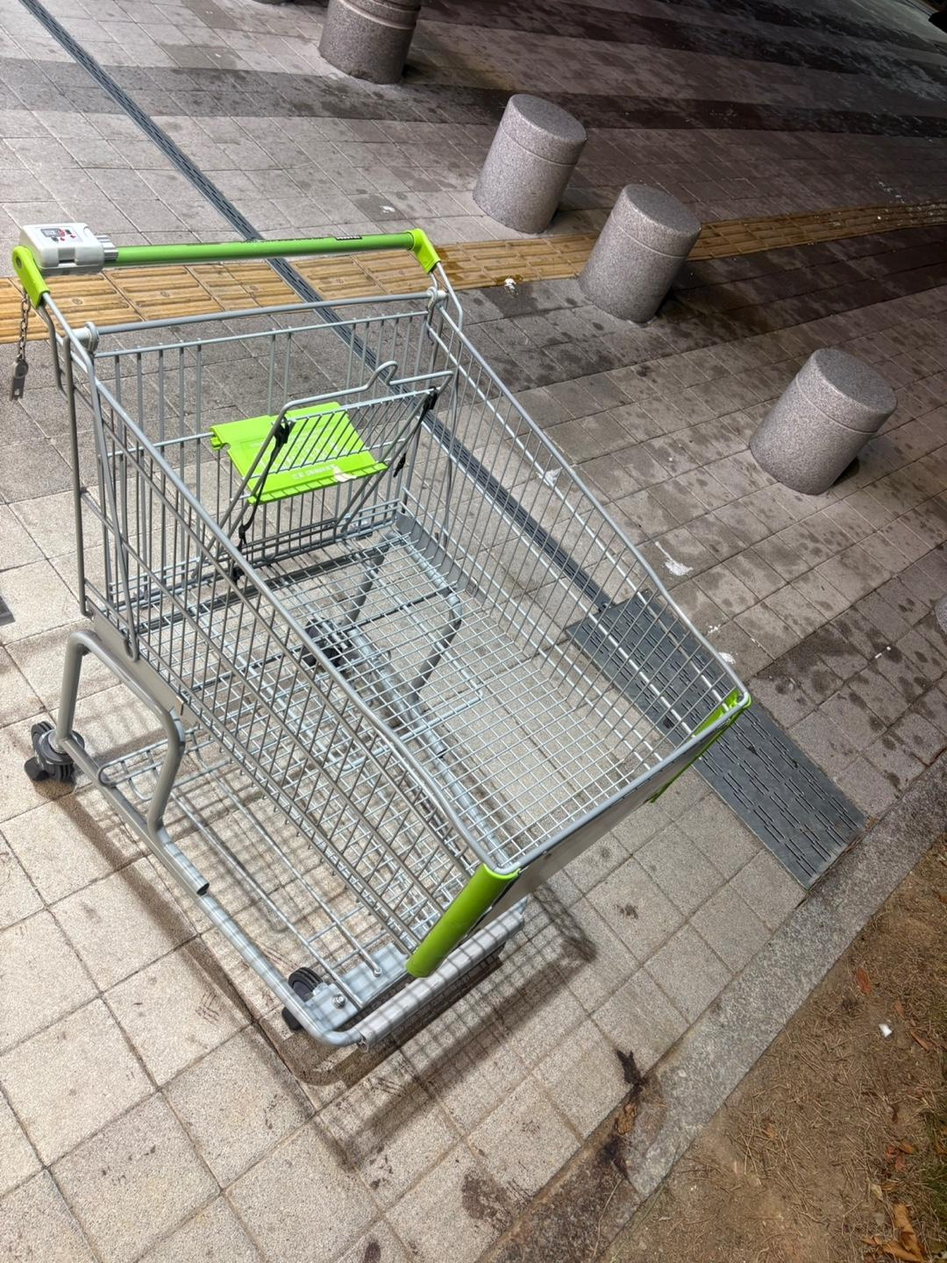empty_cart: (0, 212, 766, 1066)
